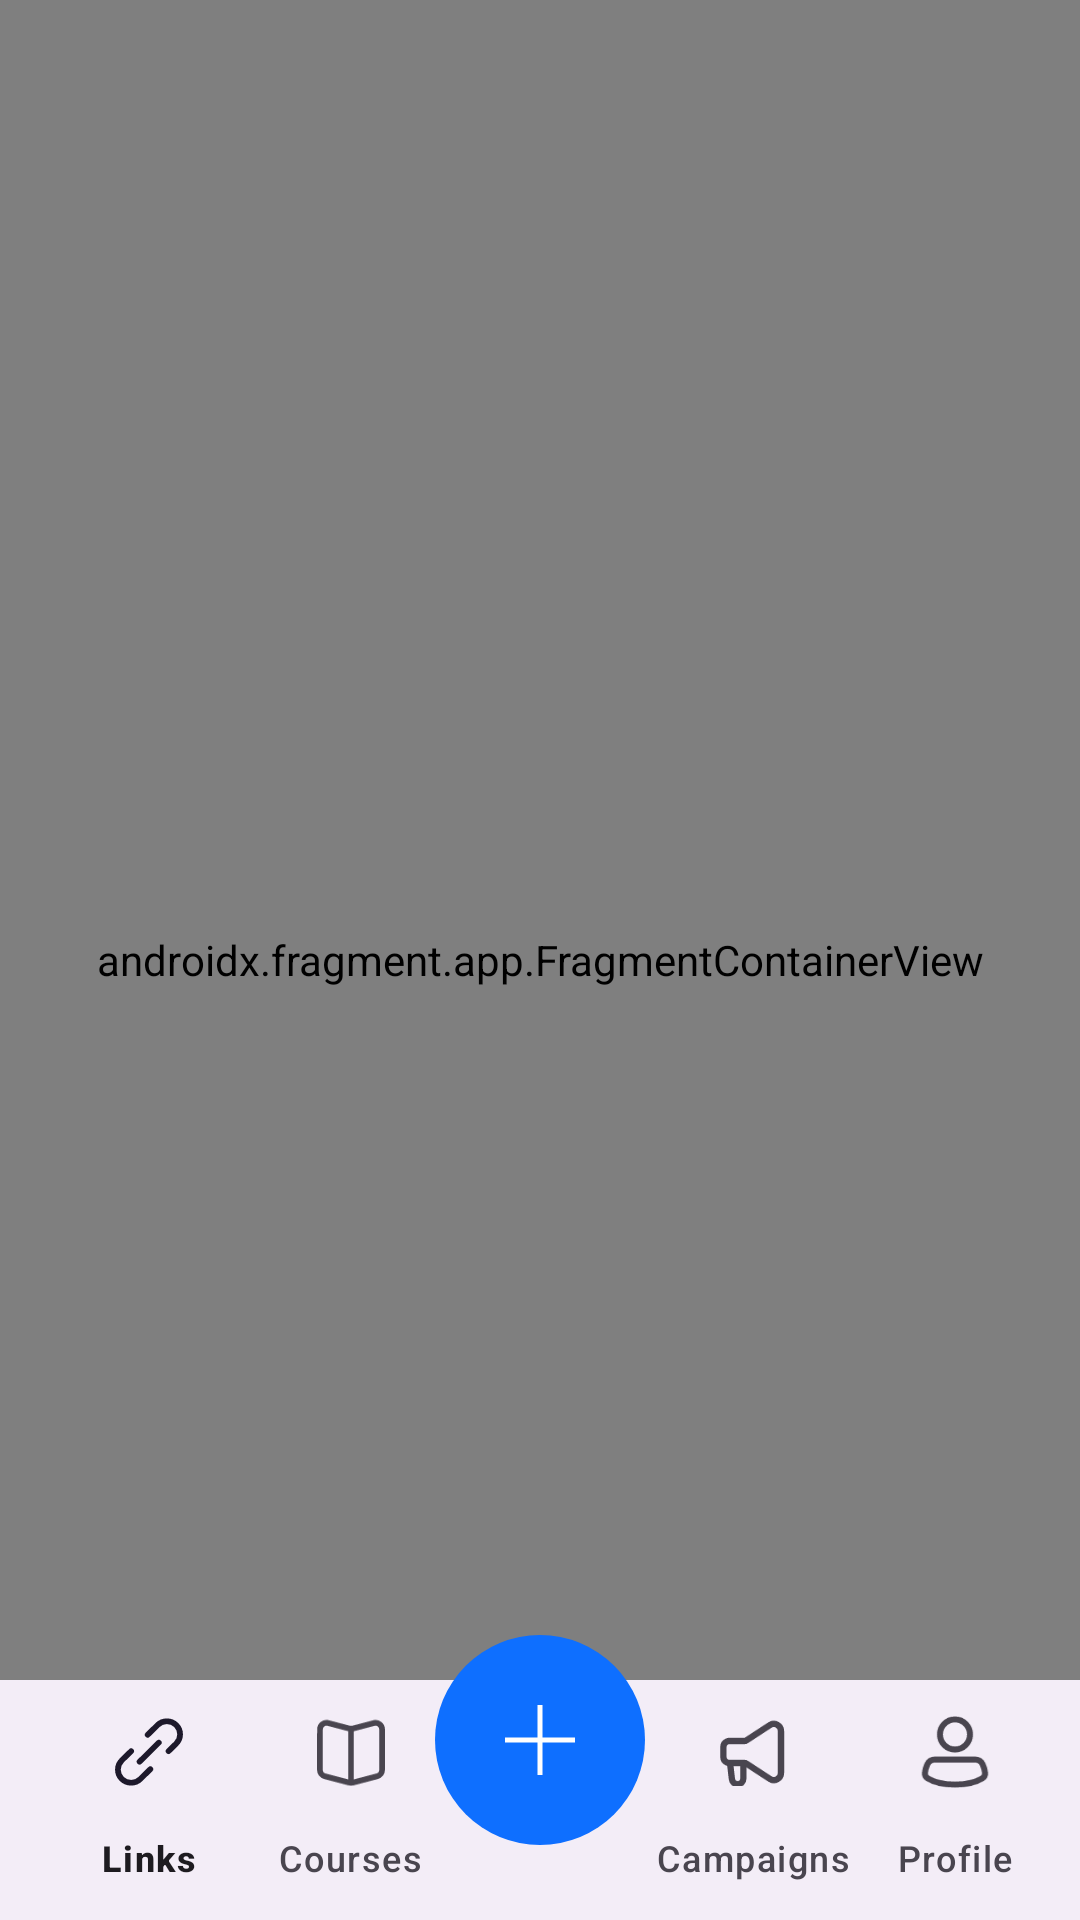

Icons on this 1080×1920 Android screen, each with its box as (x1, y1, x2, y2):
floatingactionbutton: (435, 1650, 645, 1845)
